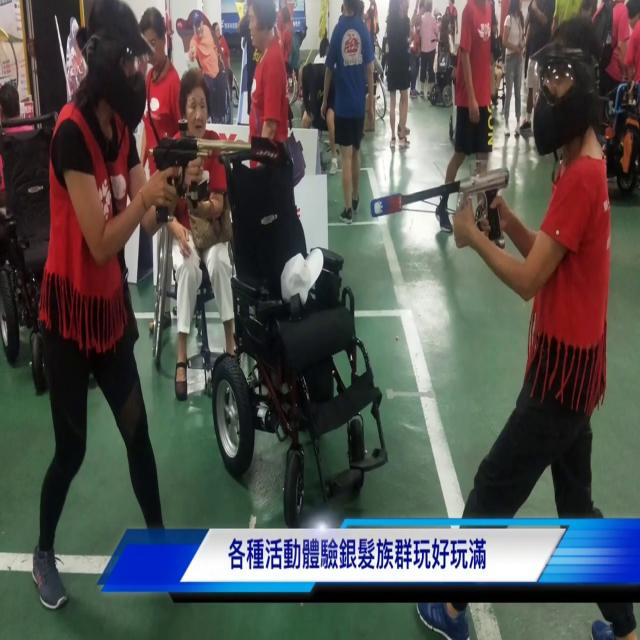wheelchairs: (209, 142, 401, 530), (126, 182, 272, 392)
